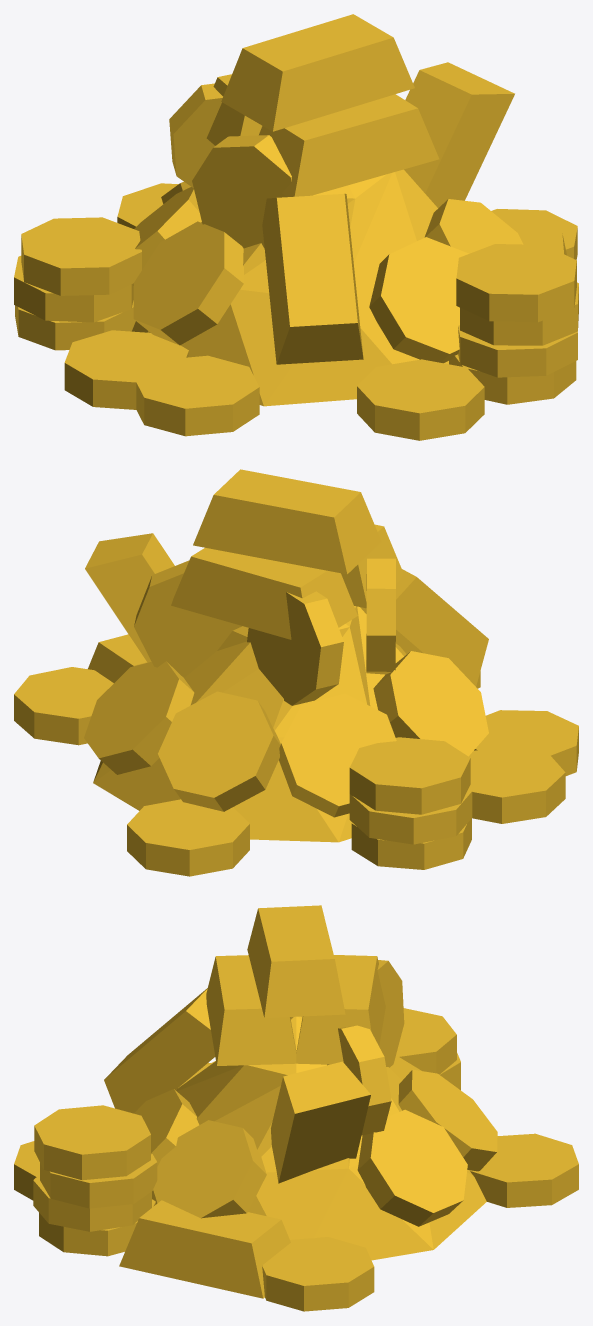
File: FX_GoldPile_L.fbx
The picture shows the model from 3 angles, top to bottom: view 1: azimuth 30°, elevation 25°; view 2: azimuth 150°, elevation 25°; view 3: azimuth 270°, elevation 25°; orthographic projection. The views are drawn at different scales.
Visible parts, largest first — view 1: Pile; view 2: Pile; view 3: Pile.
Part boxes in pixels (x1,y1,x2,y2): Pile: (14, 14, 578, 440); Pile: (14, 469, 578, 876); Pile: (14, 905, 578, 1311).
Size of the model in its own units: 3.79 by 1.92 by 3.8.
